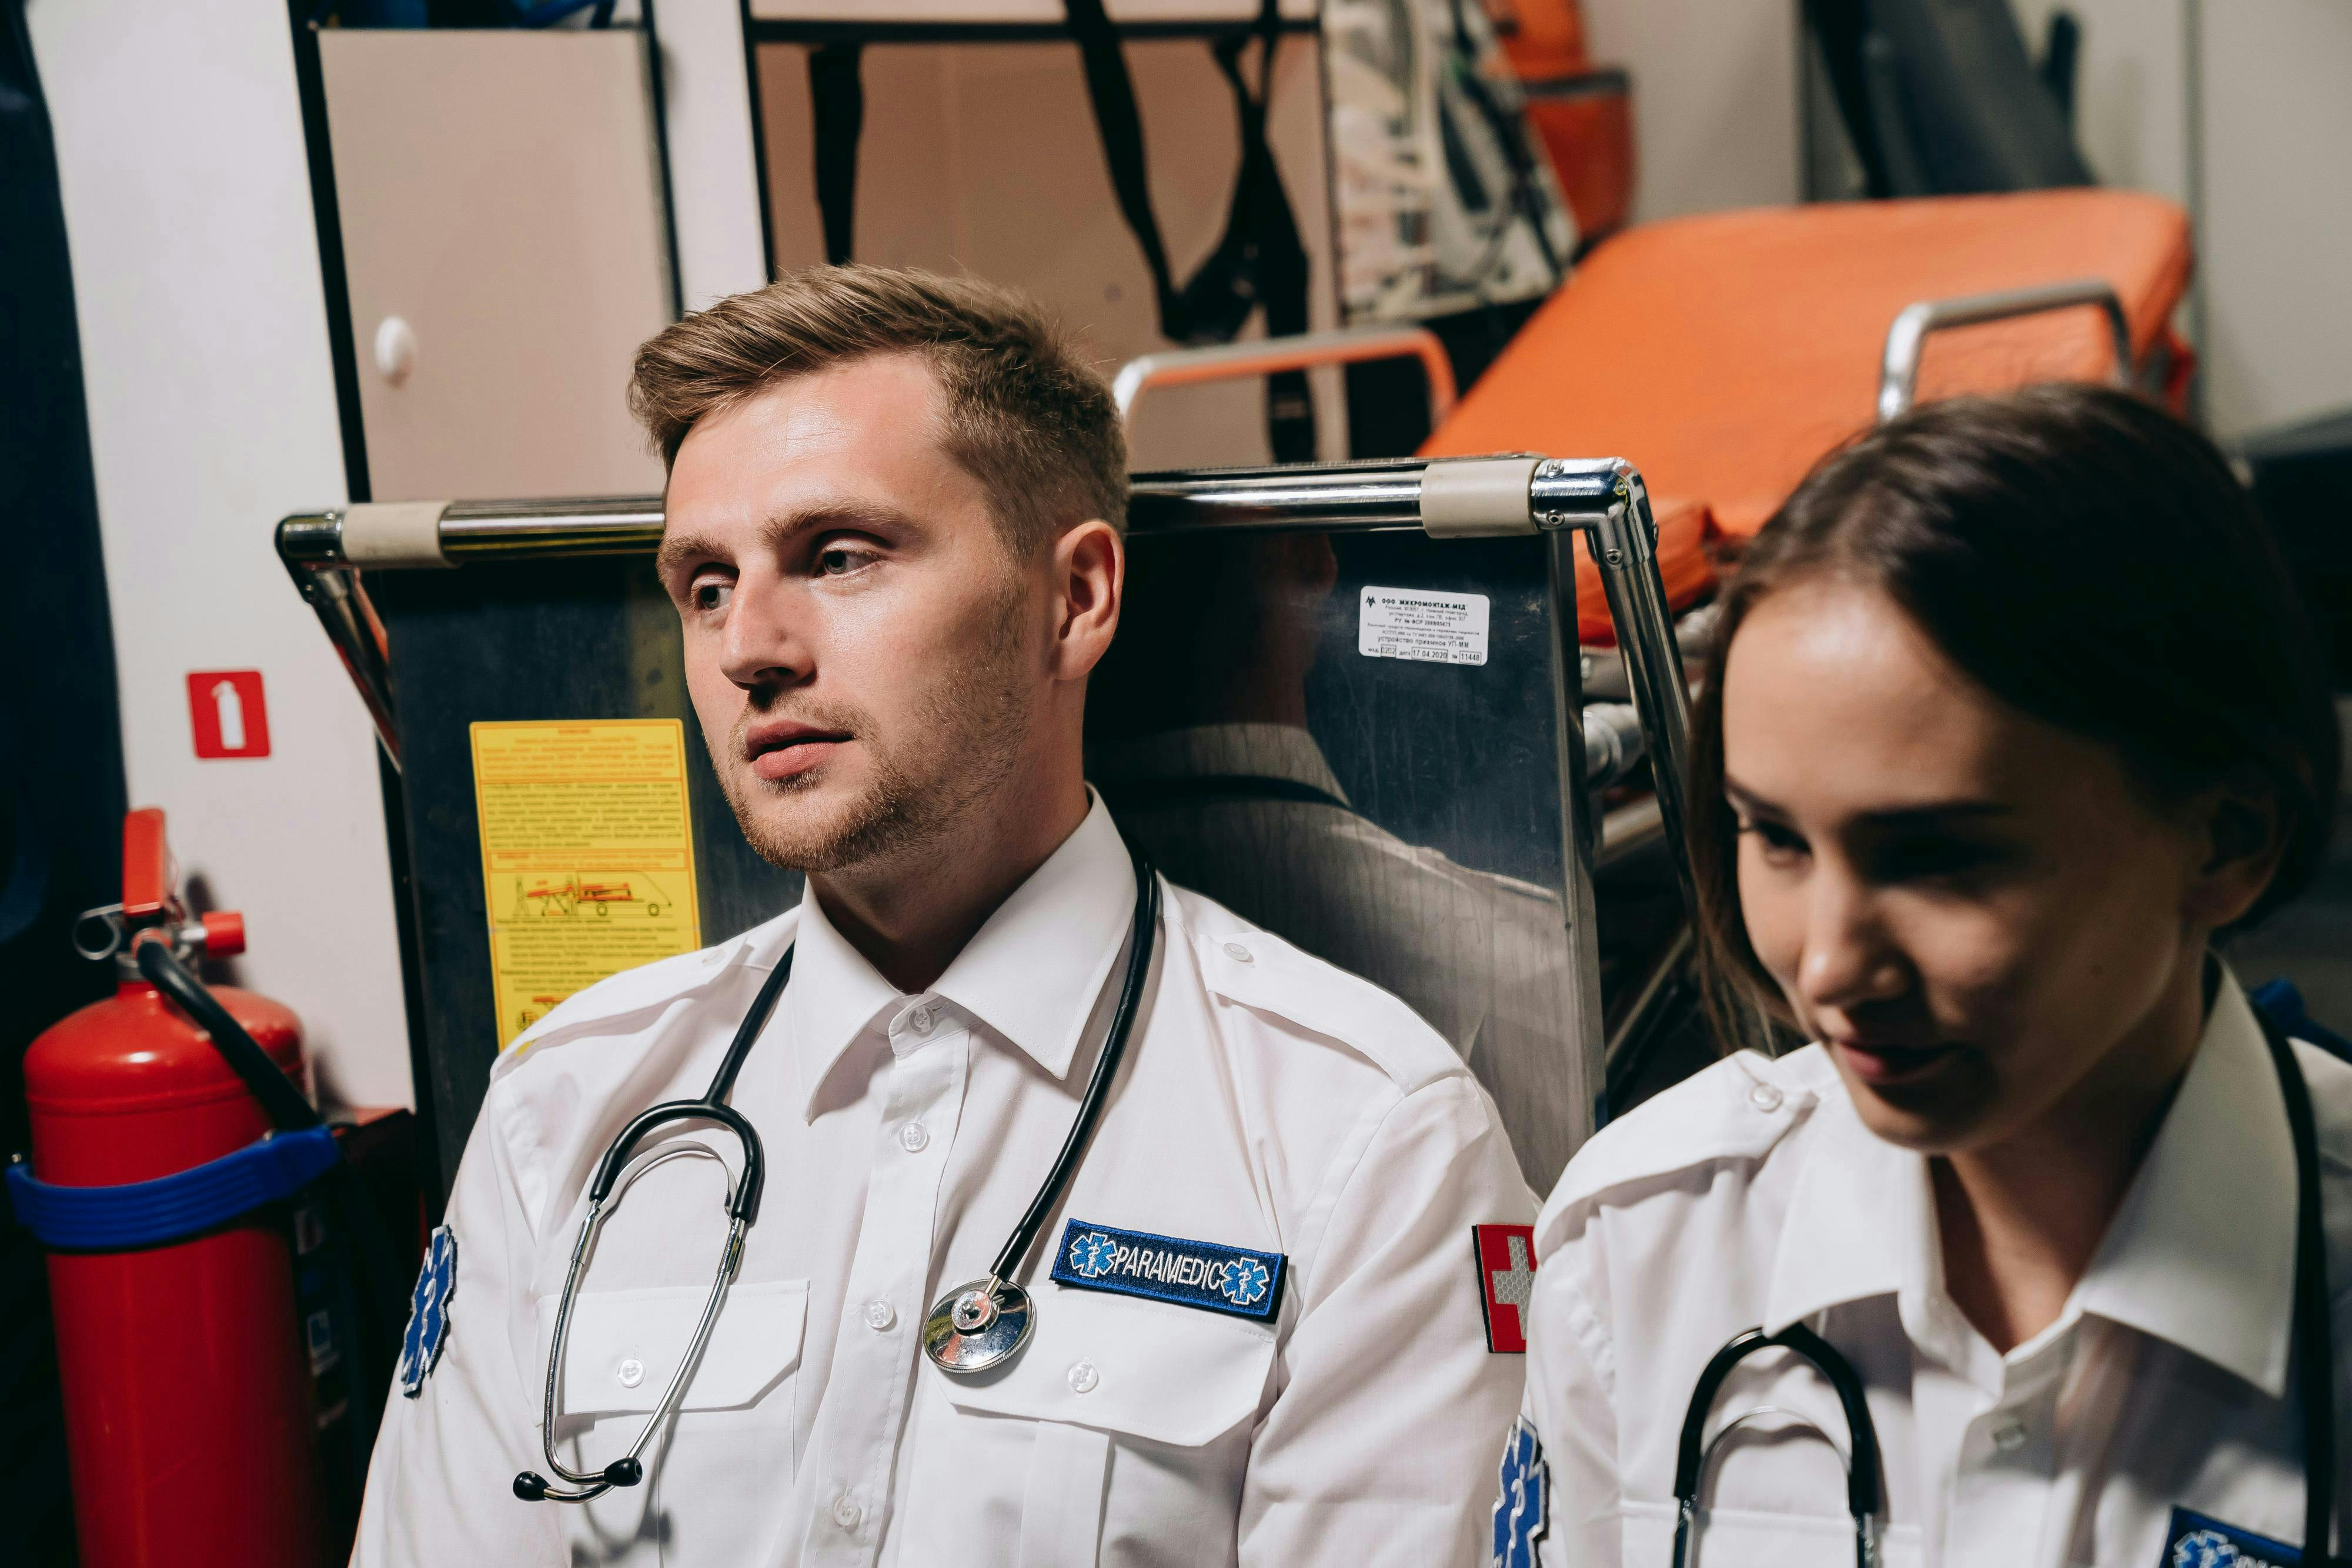extintor: (17, 798, 320, 1568)
